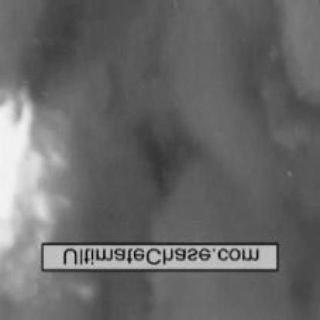Fire: (1, 94, 60, 250)
Smoke: (47, 7, 301, 305)
